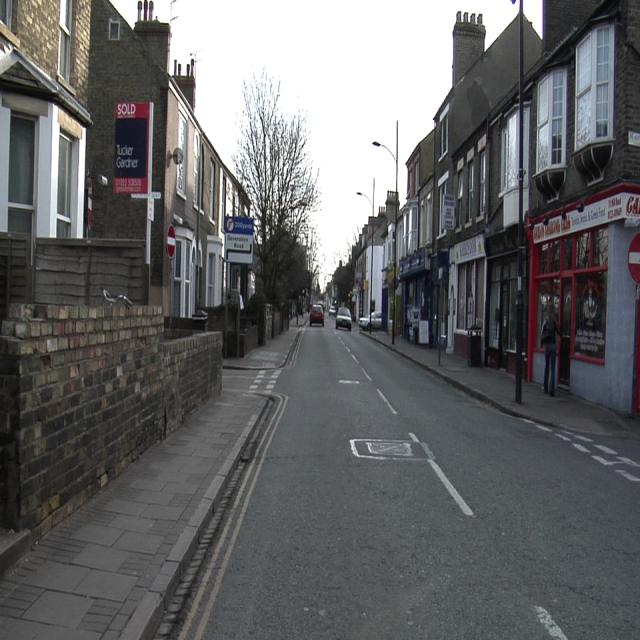Building: (1, 0, 257, 551), (336, 4, 638, 414)
Car: (336, 308, 351, 329), (310, 304, 323, 326)
Road: (203, 324, 635, 639)
Tree: (231, 67, 320, 303)
person: (541, 303, 559, 395)
